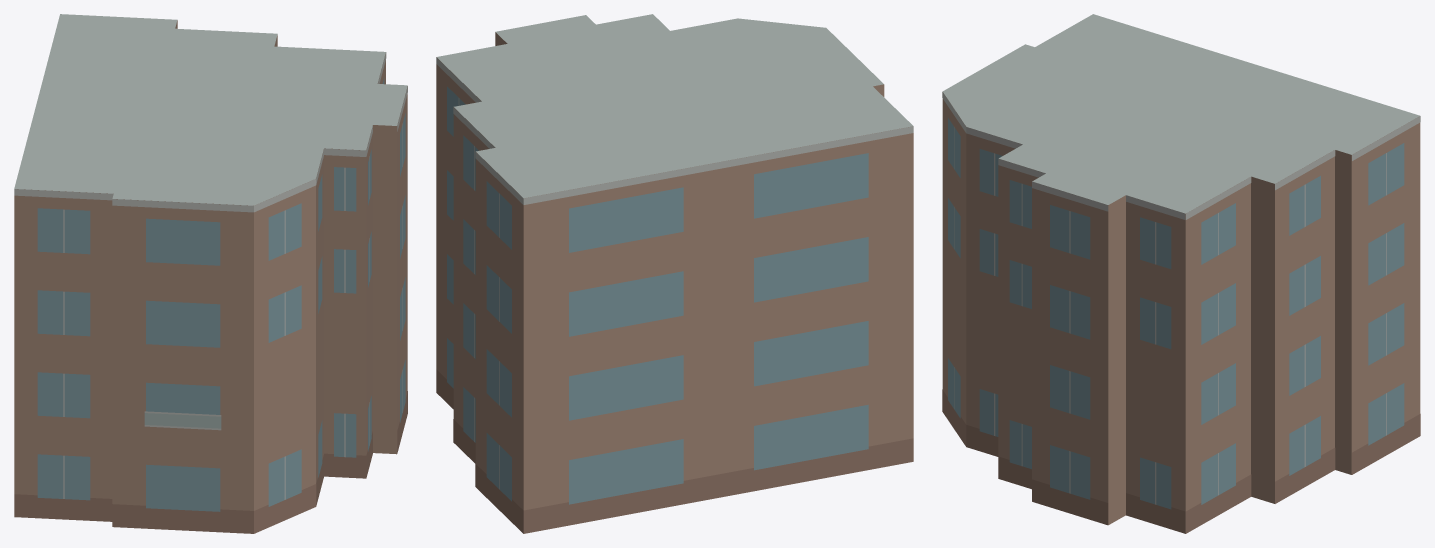
Rendered from survey-upis-32995314.glb.
The picture shows the model from 3 angles, left to right: view 1: azimuth 30°, elevation 25°; view 2: azimuth 150°, elevation 25°; view 3: azimuth 270°, elevation 25°; orthographic projection. The views are drawn at different scales.
Parts seen in each view (by area): view 1: survey-upis-32995314.tmp; view 2: survey-upis-32995314.tmp; view 3: survey-upis-32995314.tmp.
Part boxes in pixels (x1=…): survey-upis-32995314.tmp: x1=14, y1=14, x2=407, y2=533; survey-upis-32995314.tmp: x1=436, y1=14, x2=913, y2=533; survey-upis-32995314.tmp: x1=942, y1=14, x2=1420, y2=533.
Size of the model in its own units: 15.92 by 11.9 by 16.11.
